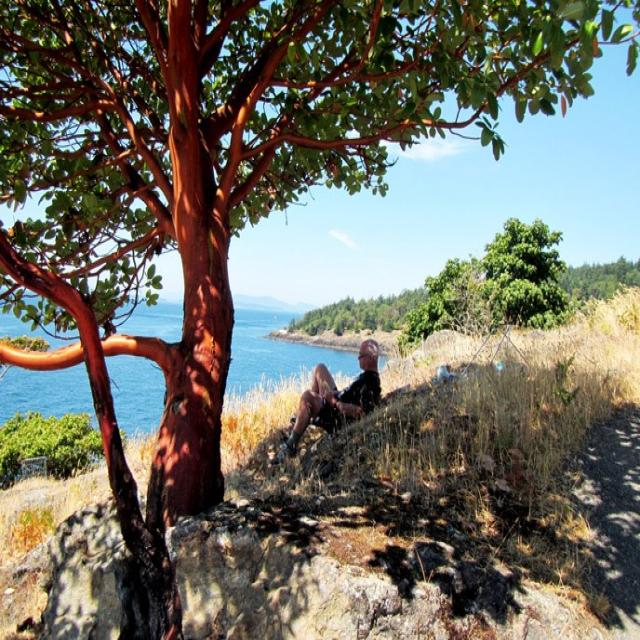Arbutus menziesii: (0, 0, 640, 533)
